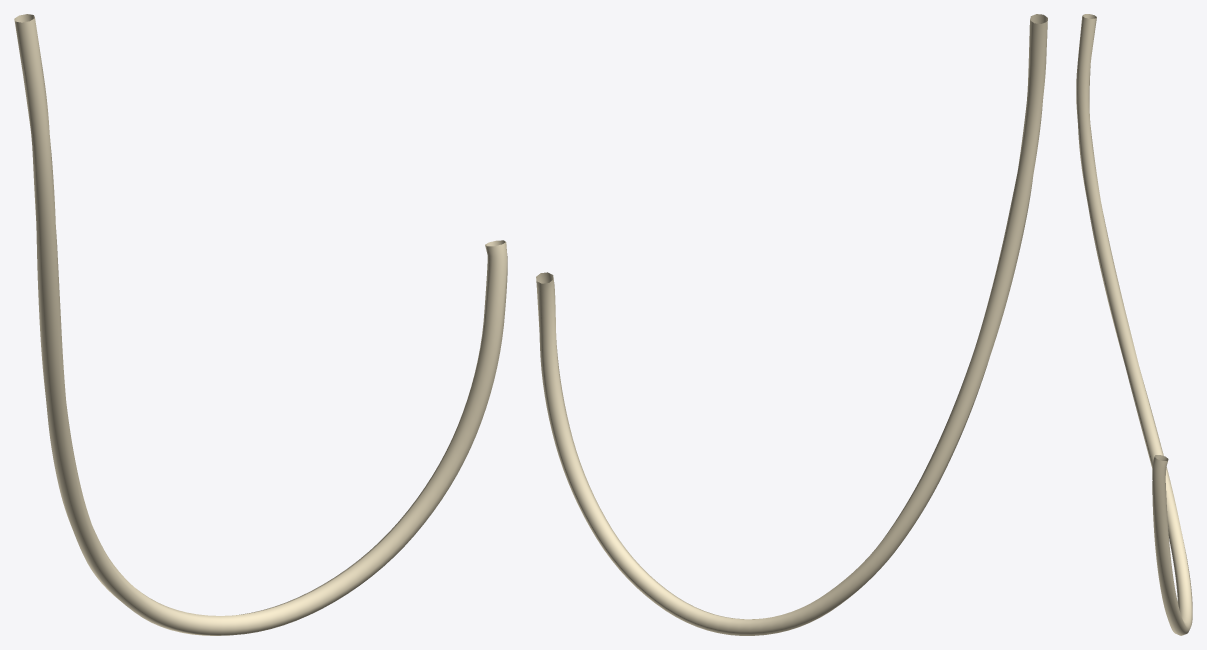
Rendered from Rope1.fbx.
3 renders of one model, left to right at view 1: azimuth 30°, elevation 25°; view 2: azimuth 150°, elevation 25°; view 3: azimuth 270°, elevation 25°, orthographic. The views are drawn at different scales.
Parts seen in each view (by area): view 1: Obi_Rod__1_; view 2: Obi_Rod__1_; view 3: Obi_Rod__1_.
Boxes of the visible parts, left/top/right/bottom form: Obi_Rod__1_: left=14, top=14, right=507, bottom=635; Obi_Rod__1_: left=536, top=14, right=1047, bottom=635; Obi_Rod__1_: left=1076, top=14, right=1192, bottom=635.
Bounding box in the file's own units: 51.85 × 67.57 × 14.15.
